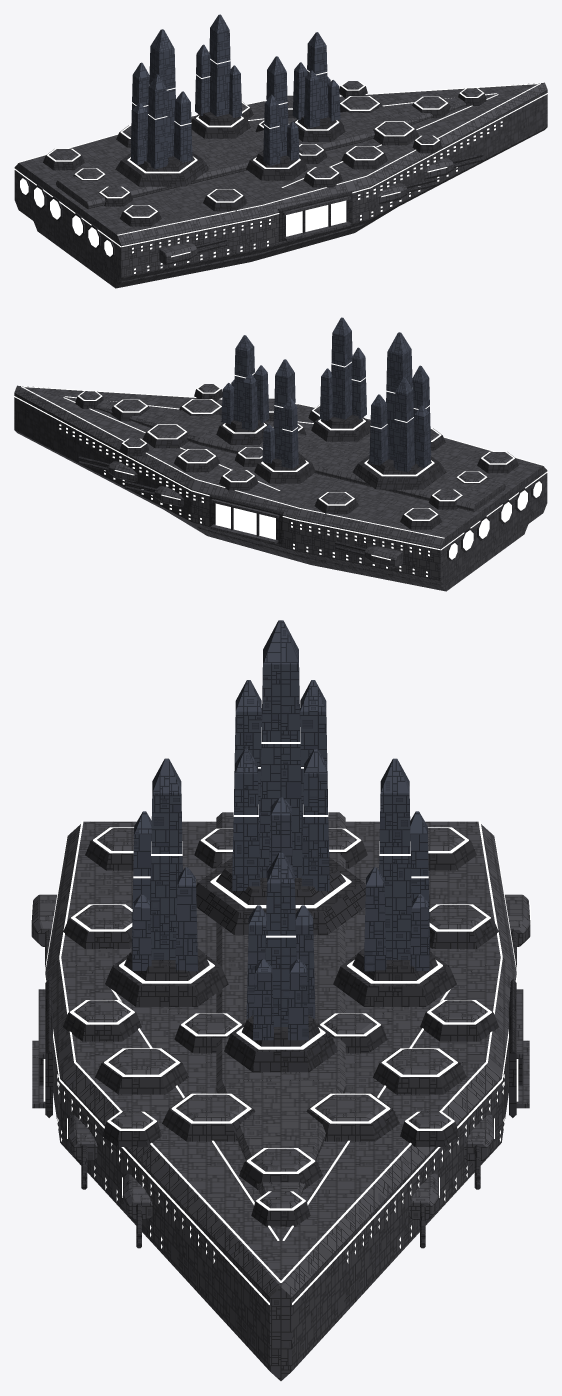
File: tech_lod0.glb
3 views of the same model, one above another, from view 1: azimuth 30°, elevation 25°; view 2: azimuth 150°, elevation 25°; view 3: azimuth 270°, elevation 25° (orthographic). The views are drawn at different scales.
Visible parts, largest first — view 1: tech_lod0_body, tech_lod0_glow; view 2: tech_lod0_body, tech_lod0_glow; view 3: tech_lod0_body, tech_lod0_glow.
Part boxes in pixels (x1,y1,x2,y2): tech_lod0_body: (14, 14, 547, 288); tech_lod0_glow: (14, 58, 547, 273); tech_lod0_body: (14, 317, 547, 591); tech_lod0_glow: (14, 361, 547, 576); tech_lod0_body: (31, 620, 530, 1380); tech_lod0_glow: (31, 727, 530, 1304).
Bounding box in the file's own units: 22.3 × 9.75 × 10.08.
Materials: 2 (1 with a texture image).
